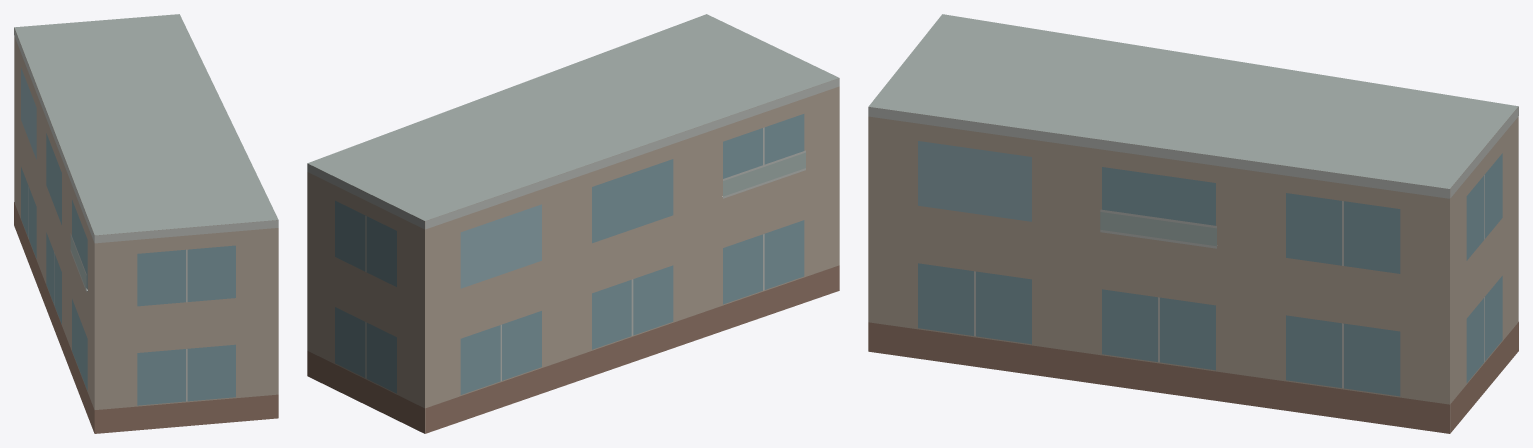
Rendered from survey-upis-32644448.glb.
The picture shows the model from 3 angles, left to right: view 1: azimuth 30°, elevation 25°; view 2: azimuth 150°, elevation 25°; view 3: azimuth 270°, elevation 25°; orthographic projection. The views are drawn at different scales.
Parts seen in each view (by area): view 1: survey-upis-32644448.tmp; view 2: survey-upis-32644448.tmp; view 3: survey-upis-32644448.tmp.
Boxes of the visible parts, <box> form: survey-upis-32644448.tmp: <box>14,14,278,433</box>; survey-upis-32644448.tmp: <box>307,14,839,433</box>; survey-upis-32644448.tmp: <box>868,14,1518,433</box>.
Bounding box in the file's own units: 9.36 × 6.1 × 14.7.
